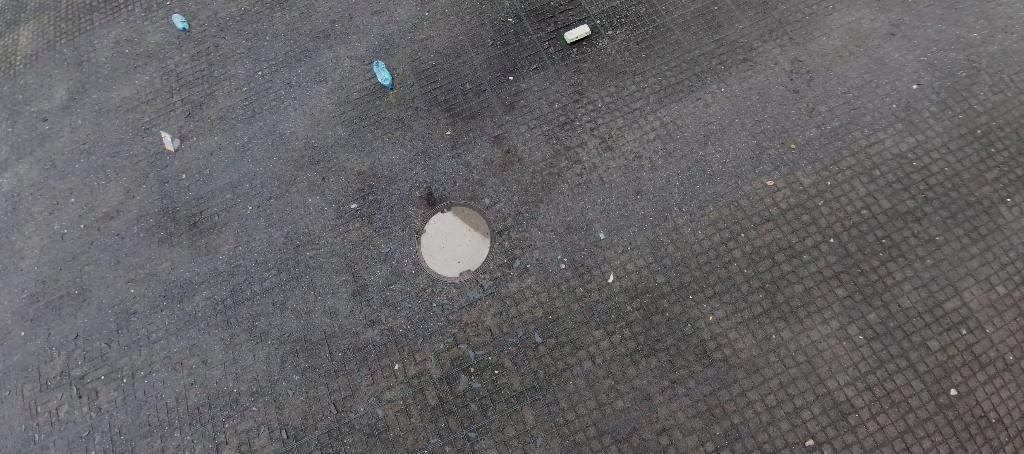garbage: (158, 127, 182, 154), (372, 60, 392, 89), (171, 11, 191, 36)
